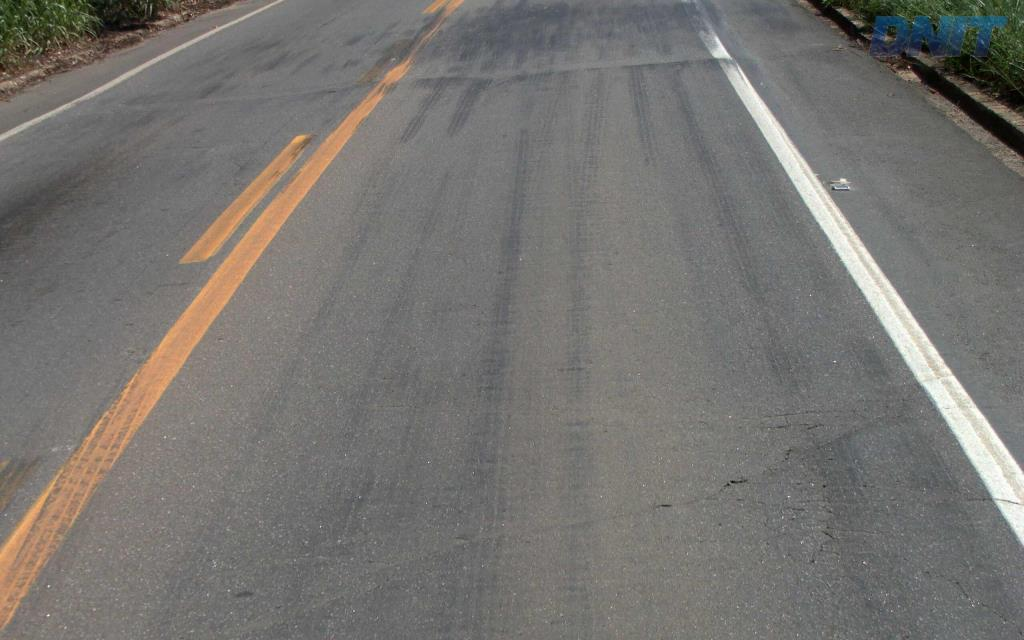crack: (810, 432, 865, 503)
